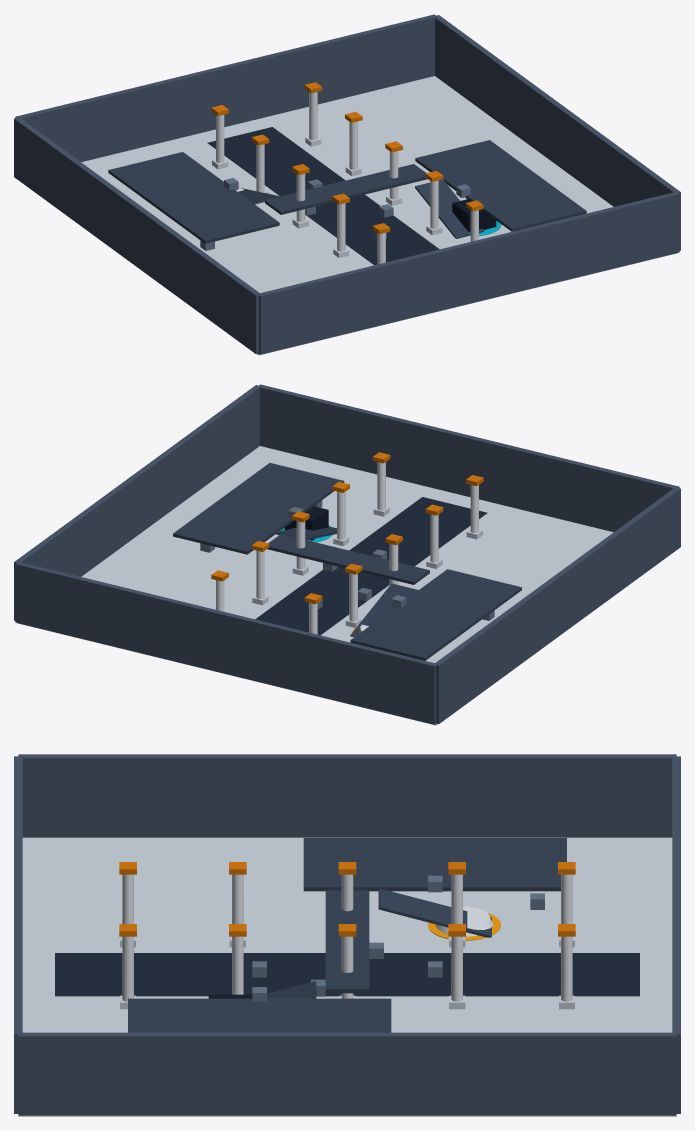
File: hall.glb
The picture shows the model from 3 angles, top to bottom: view 1: azimuth 30°, elevation 25°; view 2: azimuth 150°, elevation 25°; view 3: azimuth 270°, elevation 25°; orthographic projection. The views are drawn at different scales.
Visible parts, largest first — view 1: Hall_Floor, Wall_South, Wall_North, Wall_West, Wall_East, Hall_Nave_Runner, Balcony_West_B, Balcony_East_A, Central_Skywalk_Bridge, Ramp_East, Column_6, Column_9 (+7 smaller); view 2: Hall_Floor, Wall_North, Wall_South, Wall_West, Wall_East, Hall_Nave_Runner, Balcony_West_B, Balcony_East_A, Central_Skywalk_Bridge, Ramp_West, Column_7, Column_10 (+6 smaller); view 3: Hall_Floor, Wall_East, Wall_West, Hall_Nave_Runner, Balcony_West_B, Balcony_East_A, Central_Skywalk_Bridge, Wall_South, Wall_North, Ramp_West, Column_7, Column_6 (+10 smaller).
Boxes of the visible parts, x1=… form: Hall_Floor: x1=81, y1=76, x2=677, y2=355; Wall_South: x1=259, y1=191, x2=679, y2=354; Wall_North: x1=15, y1=14, x2=437, y2=162; Wall_West: x1=14, y1=118, x2=260, y2=354; Wall_East: x1=435, y1=15, x2=680, y2=250; Hall_Nave_Runner: x1=207, y1=127, x2=439, y2=265; Balcony_West_B: x1=108, y1=152, x2=279, y2=243; Balcony_East_A: x1=415, y1=140, x2=586, y2=231; Central_Skywalk_Bridge: x1=265, y1=164, x2=427, y2=214; Ramp_East: x1=415, y1=179, x2=484, y2=238; Column_6: x1=304, y1=82, x2=322, y2=146; Column_9: x1=425, y1=171, x2=443, y2=235; Hall_Floor: x1=17, y1=446, x2=613, y2=725; Wall_North: x1=15, y1=561, x2=435, y2=724; Wall_South: x1=257, y1=384, x2=679, y2=532; Wall_West: x1=433, y1=488, x2=680, y2=724; Wall_East: x1=14, y1=385, x2=259, y2=620; Hall_Nave_Runner: x1=255, y1=497, x2=487, y2=635; Balcony_West_B: x1=350, y1=569, x2=521, y2=660; Balcony_East_A: x1=173, y1=463, x2=344, y2=554; Central_Skywalk_Bridge: x1=267, y1=534, x2=429, y2=584; Ramp_West: x1=350, y1=583, x2=418, y2=636; Column_7: x1=251, y1=541, x2=269, y2=605; Column_10: x1=372, y1=452, x2=390, y2=516; Hall_Floor: x1=18, y1=837, x2=676, y2=1116; Wall_East: x1=18, y1=1032, x2=676, y2=1115; Wall_West: x1=18, y1=754, x2=676, y2=837; Hall_Nave_Runner: x1=55, y1=953, x2=639, y2=996; Balcony_West_B: x1=303, y1=838, x2=566, y2=891; Balcony_East_A: x1=128, y1=998, x2=391, y2=1032; Central_Skywalk_Bridge: x1=325, y1=890, x2=369, y2=993; Wall_South: x1=14, y1=756, x2=22, y2=1113; Wall_North: x1=672, y1=756, x2=680, y2=1113; Ramp_West: x1=378, y1=888, x2=491, y2=937; Column_7: x1=448, y1=924, x2=465, y2=1009; Column_6: x1=558, y1=924, x2=575, y2=1009.
Bounding box in the file's own units: 91.2 × 12.4 × 91.2.
